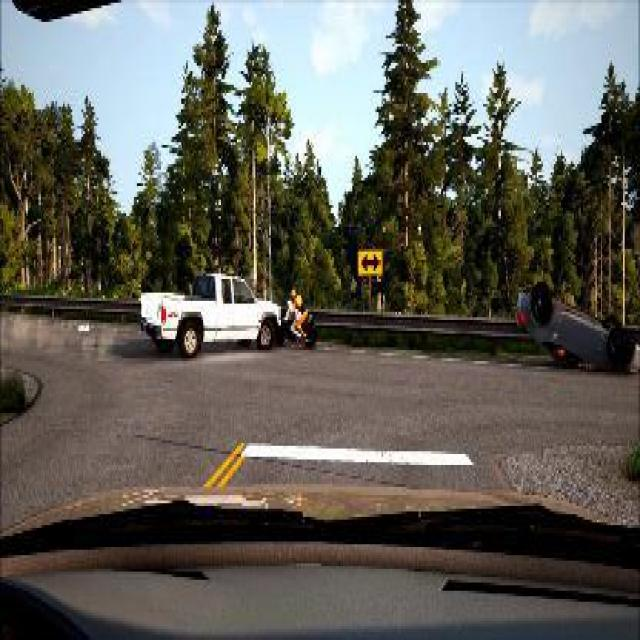accident: (133, 257, 350, 358), (482, 274, 638, 388)
